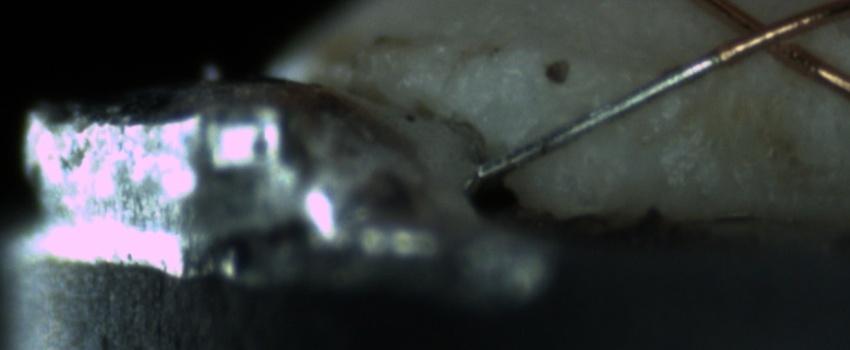CL: (710, 2, 815, 67)
TS: (478, 46, 722, 185)
